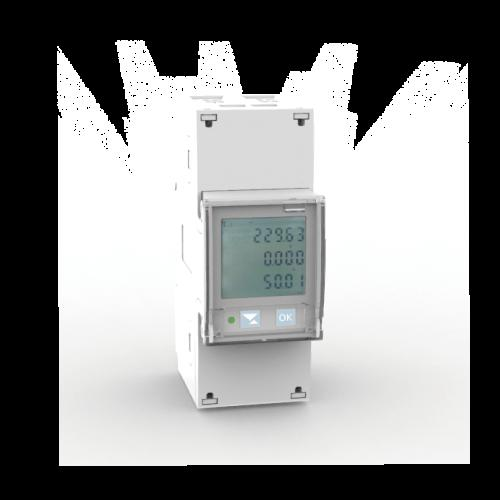0: (281, 287, 286, 291)
1: (262, 251, 273, 269), (295, 249, 306, 266), (274, 250, 284, 268), (284, 273, 295, 289), (274, 274, 282, 290), (285, 250, 293, 265)
2: (299, 274, 308, 289)
3: (264, 227, 274, 243), (253, 227, 261, 244)
4: (297, 226, 305, 242)
5: (262, 273, 274, 290)
6: (286, 227, 295, 243)
:: (275, 226, 283, 243)
